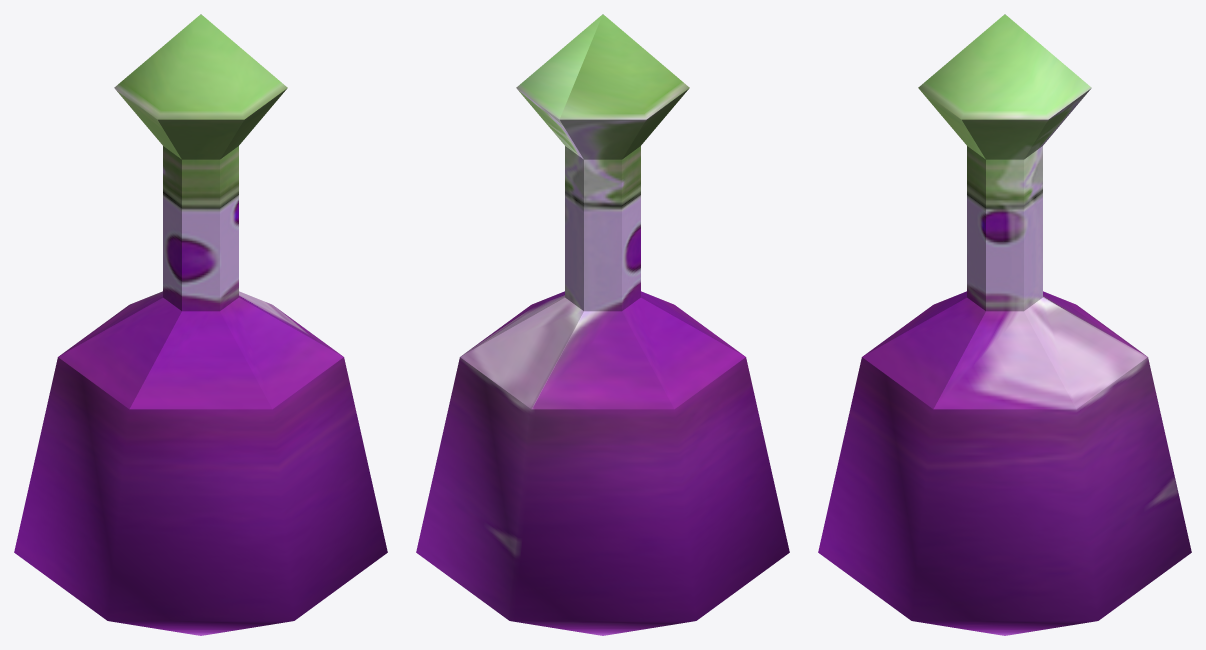
Rendered from Poison.fbx.
The picture shows the model from 3 angles, left to right: view 1: azimuth 30°, elevation 25°; view 2: azimuth 150°, elevation 25°; view 3: azimuth 270°, elevation 25°; orthographic projection.
Parts seen in each view (by area): view 1: Veneno; view 2: Veneno; view 3: Veneno.
Part boxes in pixels (x1,y1,x2,y2): Veneno: [14, 14, 387, 635]; Veneno: [416, 14, 789, 635]; Veneno: [818, 14, 1191, 635].
Bounding box in the file's own units: 15.92 × 33.76 × 18.39.
